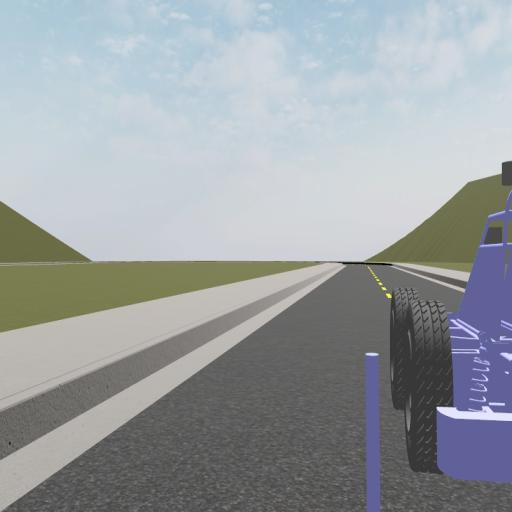ERP-42: (389, 161, 512, 485)
